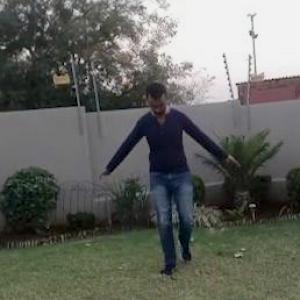land: (89, 76, 235, 293)
